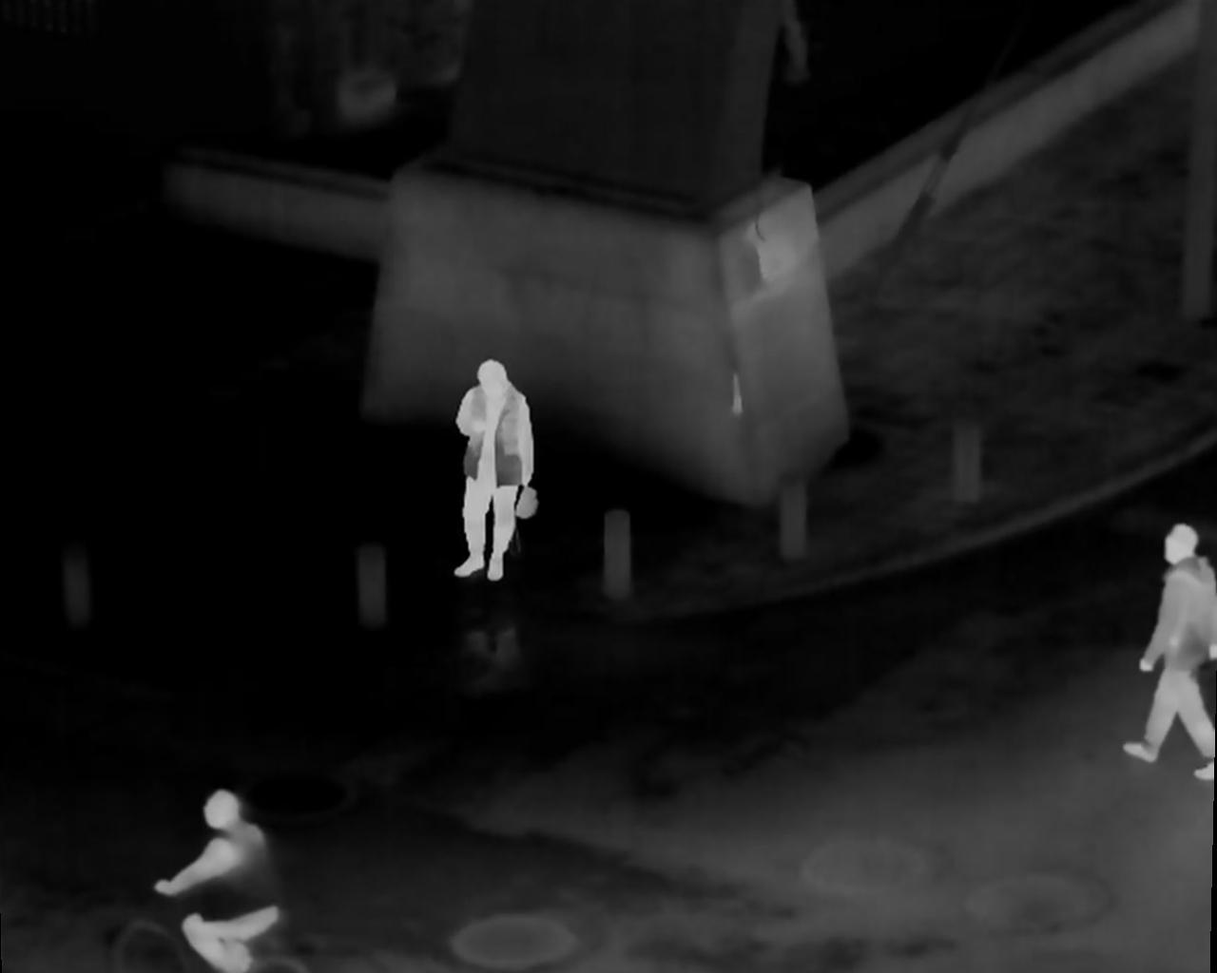person: (1122, 523, 1217, 781), (165, 785, 280, 970), (461, 353, 533, 587)
